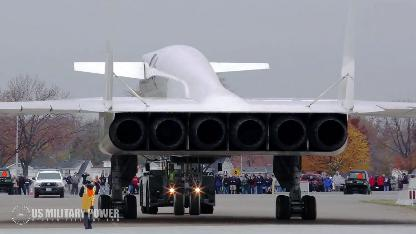U2: (0, 0, 416, 220)
